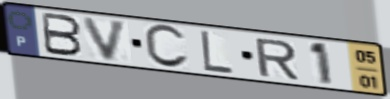1: (308, 42, 335, 86)
B: (40, 10, 85, 58)
C: (142, 23, 192, 70)
L: (198, 29, 236, 76)
R: (253, 37, 302, 81)
V: (80, 16, 131, 63)
